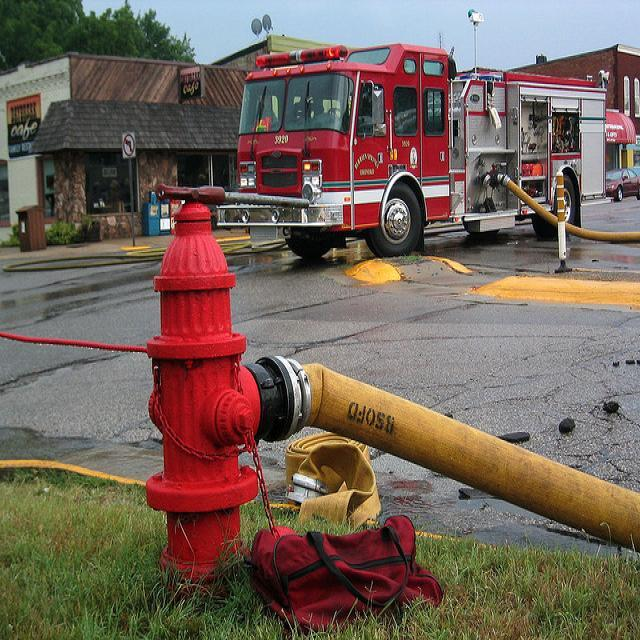fire_hydrant: (143, 203, 297, 586)
